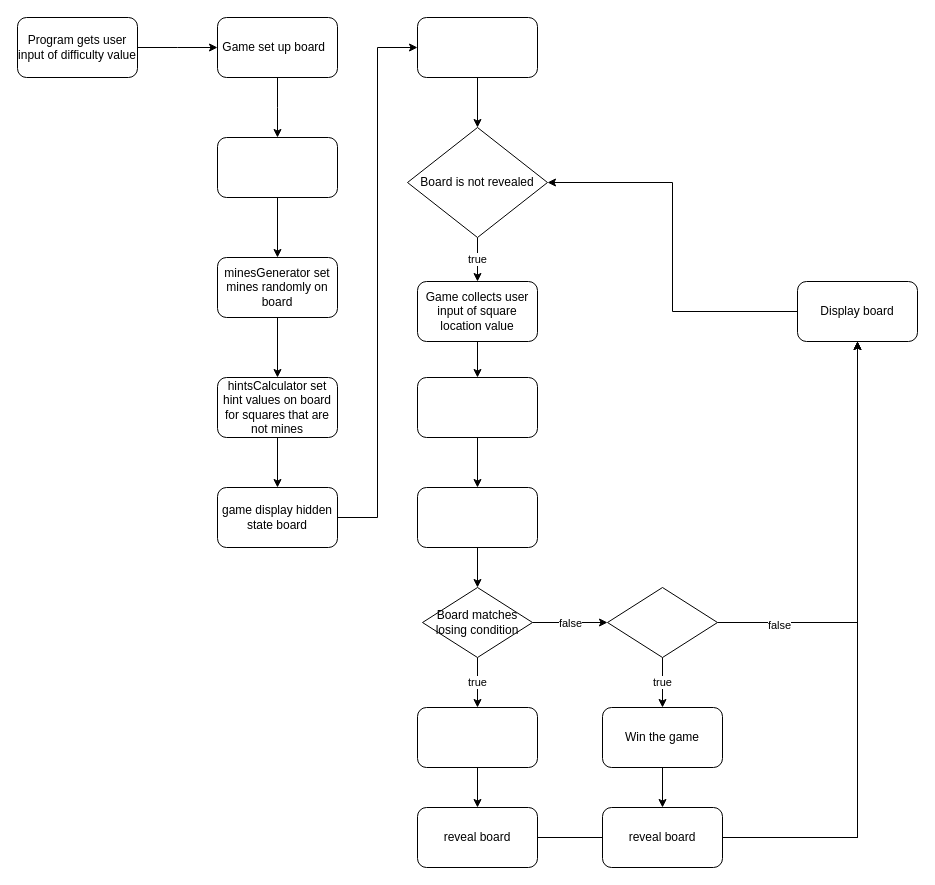
Image size: 935x885. Some labels were removed from this diagram. Here are the shapes that lost their labels. From the top down, the box of each, then its label:
(416, 16, 538, 78): Game Play
(216, 136, 338, 198): Game create empty board based on size
(416, 376, 538, 438): Update Board - Reveal the square
(416, 486, 538, 548): Rule Checks the current board
(606, 586, 718, 658): Board matches winning condition
(416, 706, 538, 768): Lose the game
